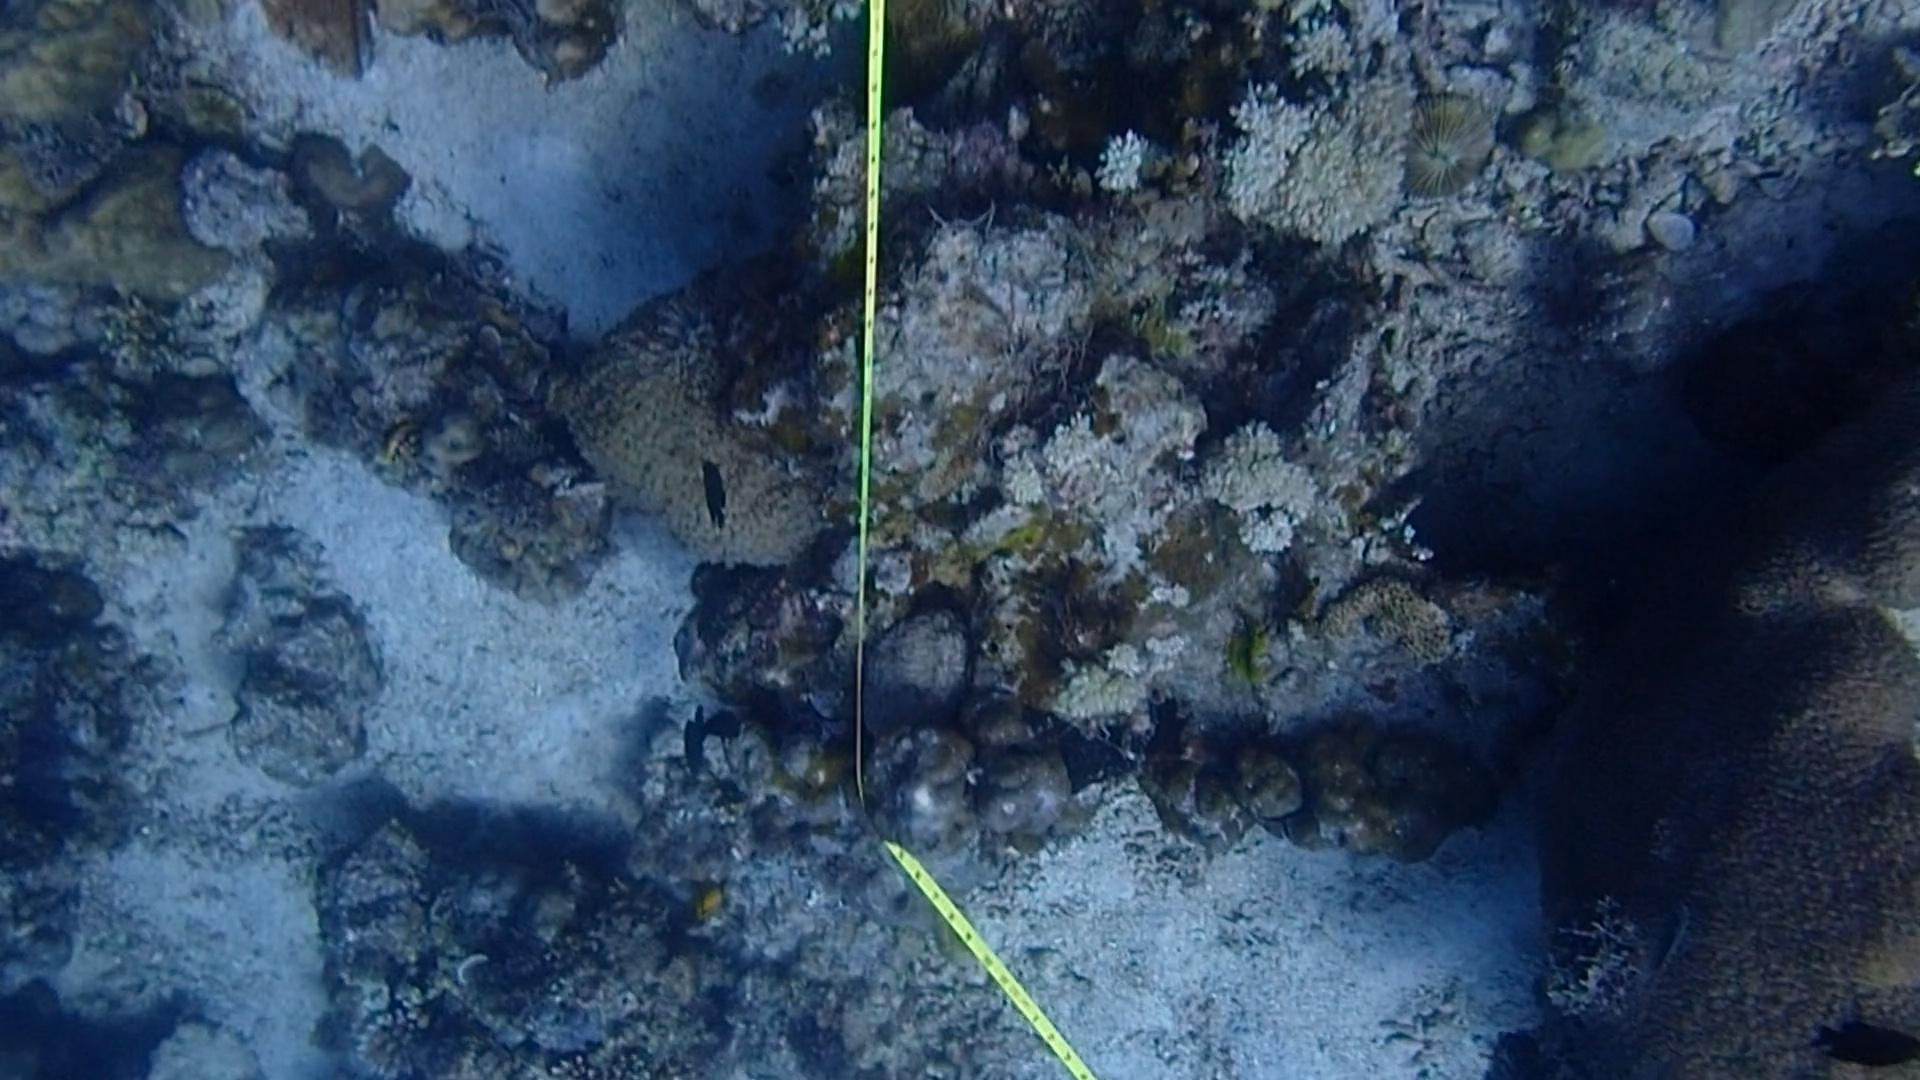Dark Fish: (533, 409, 607, 484), (694, 698, 762, 765), (669, 707, 724, 781), (691, 459, 735, 542)
